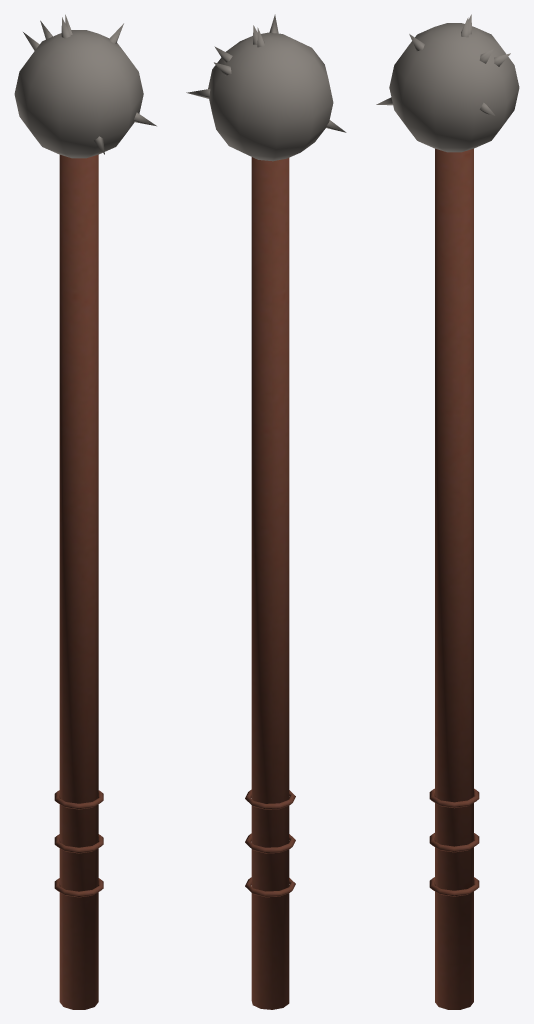
File: morning_star.fbx
3 renders of one model, left to right at view 1: azimuth 90°, elevation 25°; view 2: azimuth 150°, elevation 25°; view 3: azimuth 270°, elevation 25°, orthographic.
Parts seen in each view (by area): view 1: morning_star; view 2: morning_star; view 3: morning_star.
Part boxes in pixels (x1,y1,x2,y2): morning_star: [14, 14, 156, 1009]; morning_star: [186, 14, 346, 1009]; morning_star: [376, 14, 519, 1009].
Size of the model in its own units: 0.0916 by 0.6713 by 0.0885.
Materials: 2 (1 with a texture image).
